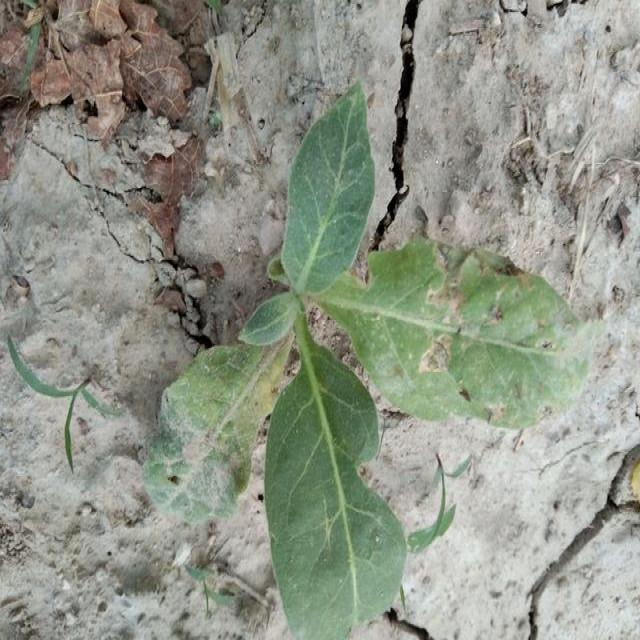crop: (138, 91, 572, 640)
